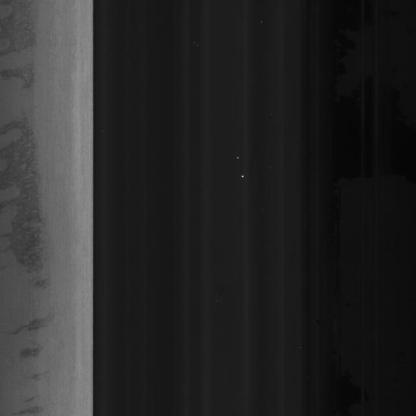water_spot: (2, 9, 57, 403)
